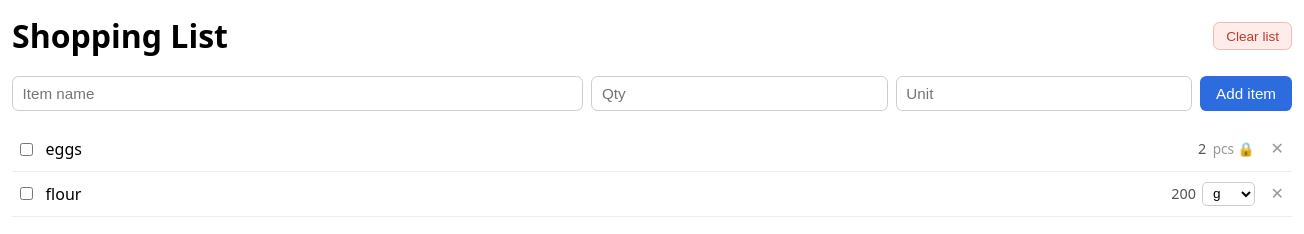
Test case: adding an item that merges into an existing one updates it in place instead of duplicating it
The image size is (1304, 234).
Check: the text "flour" is shown, box [46, 182, 81, 206]
Type "flour" into the field labelled "Item name" at {"x": 298, "y": 94}, box [12, 76, 583, 111]
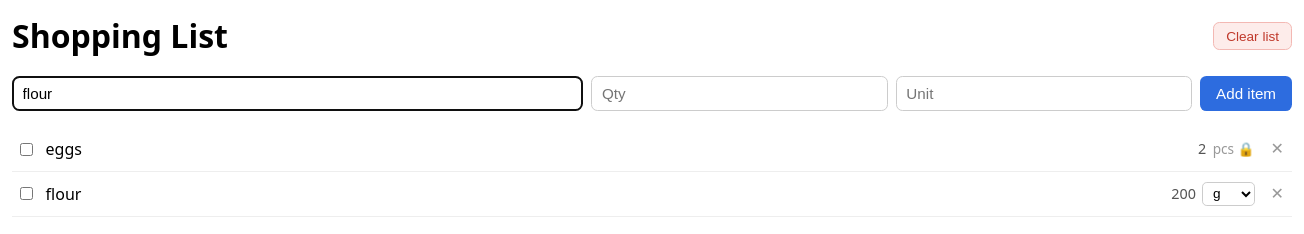
Type "200" into the number field named "item quantity" at {"x": 740, "y": 94}, box [591, 76, 888, 111]
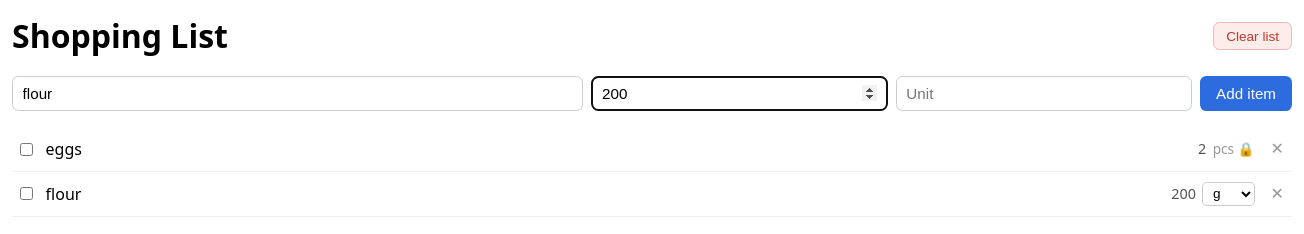
Type "g" into the field named "item unit" at {"x": 1044, "y": 94}, box [896, 76, 1192, 111]
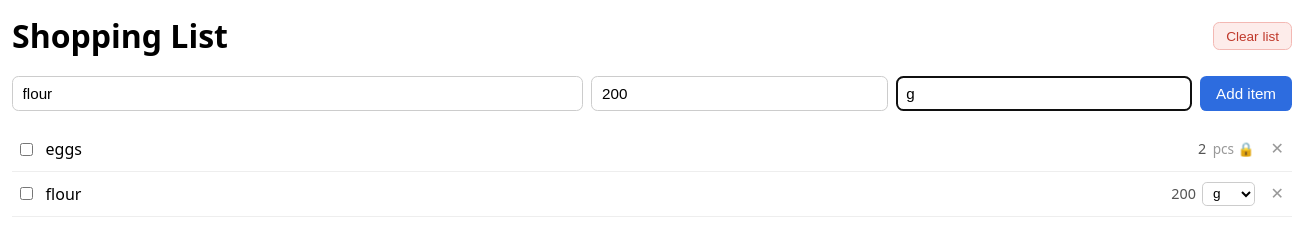
Click the button "Add item" at {"x": 1246, "y": 94}, box [1200, 76, 1292, 111]
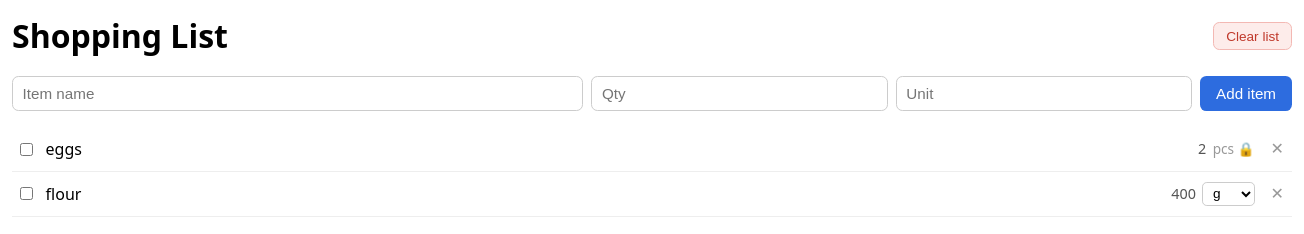
Check: the text "flour" is shown once, box [46, 182, 81, 206]
Check: the text "400" is shown, box [1171, 183, 1196, 205]
